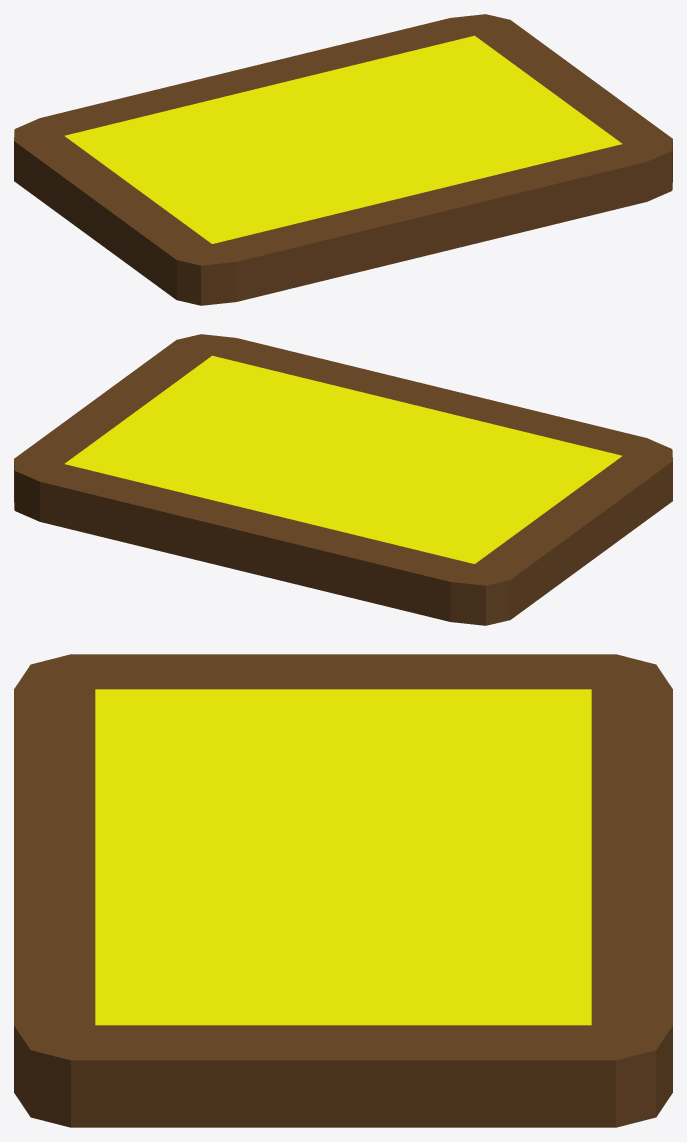
The model's file is Card.fbx.
3 views of the same model, one above another, from view 1: azimuth 30°, elevation 25°; view 2: azimuth 150°, elevation 25°; view 3: azimuth 270°, elevation 25° (orthographic). The views are drawn at different scales.
Parts seen in each view (by area): view 1: Cube; view 2: Cube; view 3: Cube.
Part boxes in pixels (x1,y1,x2,y2): Cube: [14, 14, 672, 305]; Cube: [14, 334, 672, 625]; Cube: [14, 654, 672, 1127].
Size of the model in its own units: 48.62 by 3.76 by 33.33.
